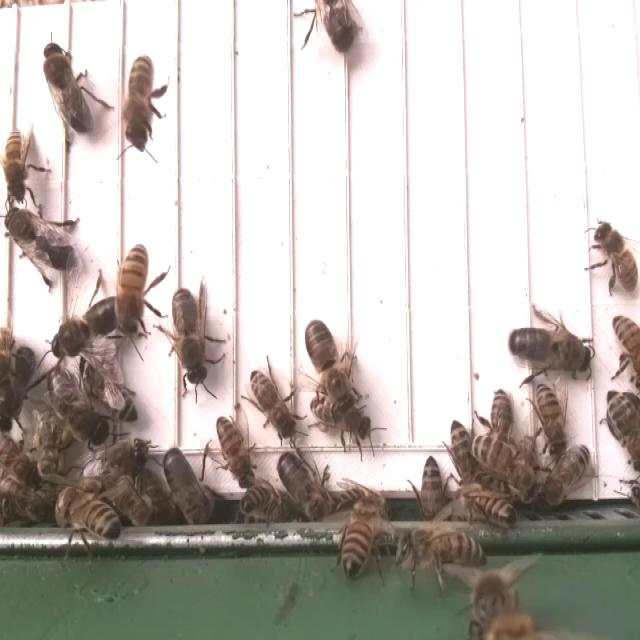Drone: (41, 364, 114, 448), (0, 205, 81, 272), (41, 38, 93, 138), (304, 318, 357, 416), (506, 323, 594, 378), (48, 296, 119, 362), (168, 285, 212, 388), (274, 447, 331, 523), (162, 443, 213, 526), (0, 342, 37, 433)
Worker: (52, 484, 123, 538), (471, 428, 534, 488), (592, 218, 640, 294), (249, 367, 297, 438), (541, 443, 592, 509), (119, 239, 150, 339), (122, 52, 156, 143), (342, 501, 379, 578), (605, 389, 640, 470), (214, 414, 254, 482), (534, 383, 569, 459), (2, 127, 30, 203)
